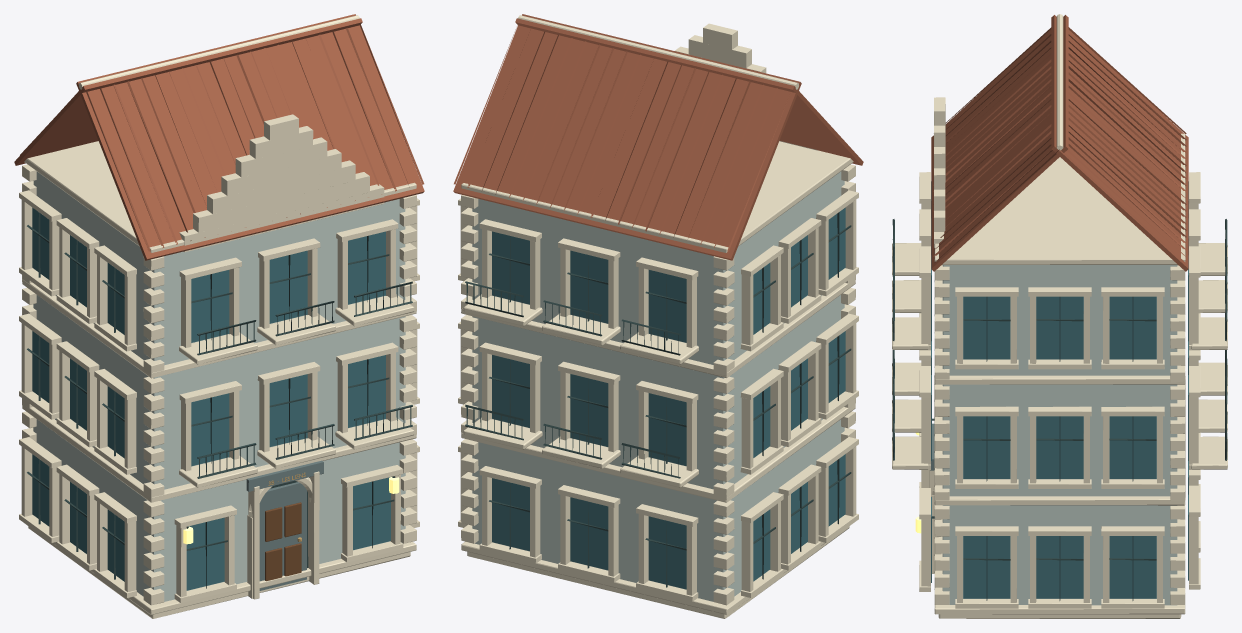
File: estonie-3-lod.glb
The picture shows the model from 3 angles, left to right: view 1: azimuth 30°, elevation 25°; view 2: azimuth 150°, elevation 25°; view 3: azimuth 270°, elevation 25°; orthographic projection. The views are drawn at different scales.
Visible parts, largest first — view 1: estonie-3_Dressed stone.002, estonie-3_Regional roof.002, estonie-3_Masonry plaster.002, estonie-3_Window blue.001, estonie-3_Forged midnight.001, estonie-3_Regional painted wood.002, estonie-3_Walnut.001; view 2: estonie-3_Dressed stone.002, estonie-3_Regional roof.002, estonie-3_Masonry plaster.002, estonie-3_Window blue.001, estonie-3_Forged midnight.001; view 3: estonie-3_Dressed stone.002, estonie-3_Regional roof.002, estonie-3_Masonry plaster.002, estonie-3_Window blue.001, estonie-3_Forged midnight.001.
Part boxes in pixels (x1,y1,x2,y2): estonie-3_Dressed stone.002: (19,15,419,618); estonie-3_Regional roof.002: (14,14,424,260); estonie-3_Masonry plaster.002: (33,171,405,601); estonie-3_Window blue.001: (32,207,390,590); estonie-3_Forged midnight.001: (27,212,412,588); estonie-3_Regional painted wood.002: (246,460,323,590); estonie-3_Walnut.001: (265,502,301,581); estonie-3_Dressed stone.002: (458,15,858,618); estonie-3_Regional roof.002: (453,14,863,260); estonie-3_Masonry plaster.002: (472,171,844,601); estonie-3_Window blue.001: (492,207,845,589); estonie-3_Forged midnight.001: (465,212,851,587); estonie-3_Dressed stone.002: (892,14,1227,618); estonie-3_Regional roof.002: (931,15,1188,271); estonie-3_Masonry plaster.002: (942,265,1177,605); estonie-3_Window blue.001: (931,181,1188,598); estonie-3_Forged midnight.001: (892,219,1227,600).
Bounding box in the file's own units: 13.93 × 22.39 × 14.25.
